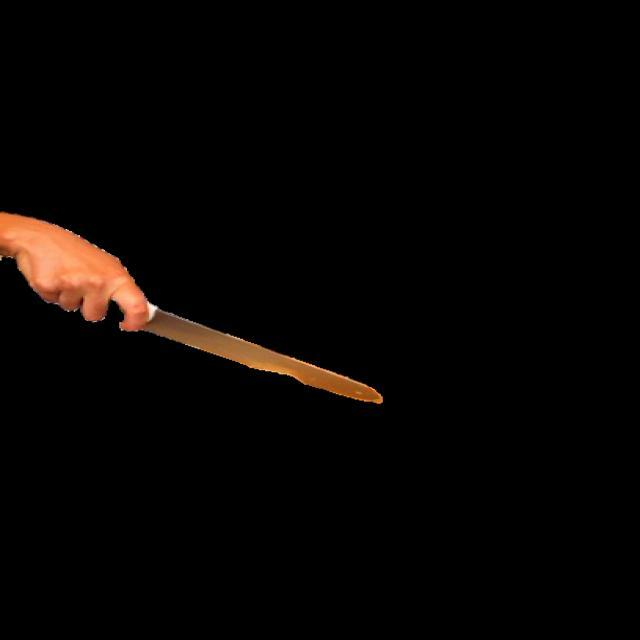knife: (43, 267, 392, 415)
